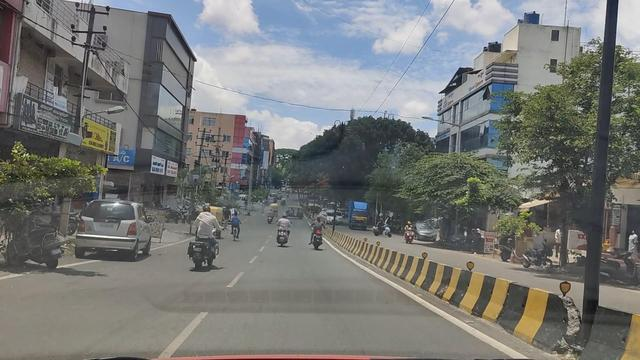LMV: (78, 190, 159, 274), (178, 202, 224, 275), (12, 208, 66, 269), (308, 209, 334, 254), (272, 213, 295, 255)
